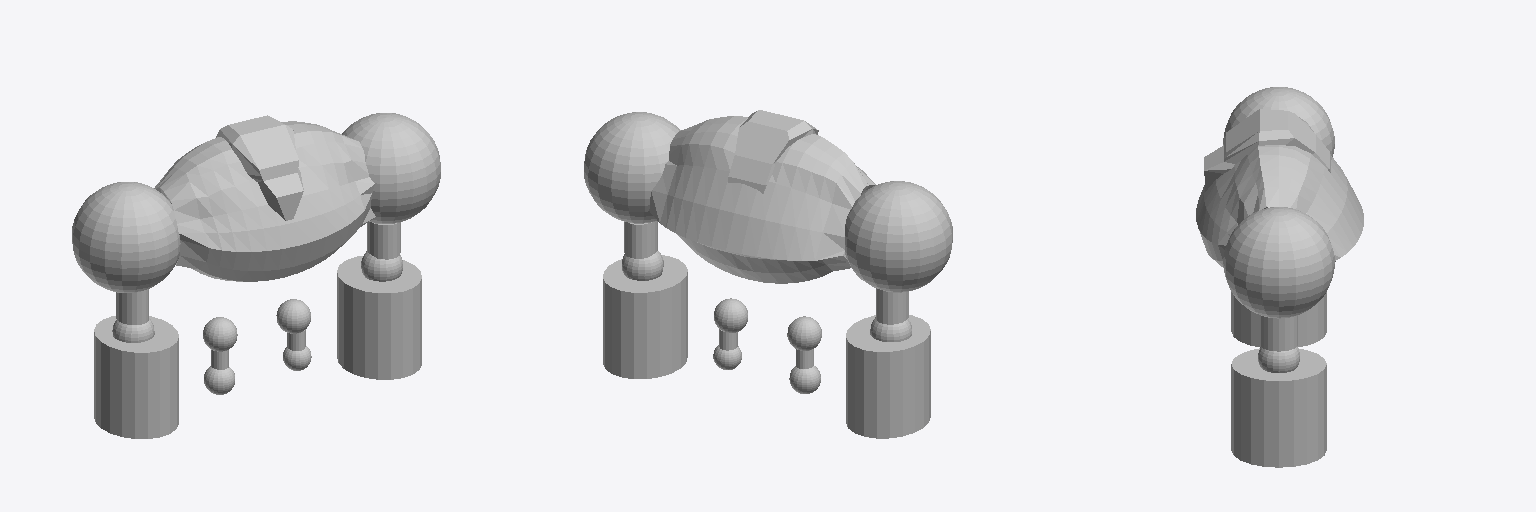
File: Robot1.obj
3 views of the same model, side by side, from view 1: azimuth 30°, elevation 25°; view 2: azimuth 150°, elevation 25°; view 3: azimuth 270°, elevation 25° (orthographic).
Visible parts, largest first — view 1: Torso, RightShoulder, LeftForeArm, RightForeArm, LeftShoulder, Head, LeftBicept, RightBicept, LeftHip, RightHip, LeftElbow, RightElbow (+1 smaller); view 2: Torso, RightShoulder, LeftForeArm, RightForeArm, LeftShoulder, Head, LeftBicept, RightBicept, RightHip, LeftHip, LeftElbow, RightElbow (+1 smaller); view 3: Torso, LeftForeArm, LeftShoulder, Head, RightShoulder, RightForeArm, LeftBicept, LeftElbow.
Boxes of the visible parts, box(x1,y1,x2,y2) form: Torso: box(154, 121, 375, 281); RightShoulder: box(72, 182, 180, 292); LeftForeArm: box(337, 256, 421, 379); RightForeArm: box(94, 316, 178, 438); LeftShoulder: box(342, 113, 440, 223); Head: box(216, 115, 303, 220); LeftBicept: box(367, 222, 400, 259); RightBicept: box(116, 289, 148, 324); LeftHip: box(276, 299, 310, 333); RightHip: box(203, 317, 237, 351); LeftElbow: box(361, 251, 402, 281); RightElbow: box(112, 318, 154, 342); Torso: box(649, 116, 875, 283); RightShoulder: box(845, 181, 952, 292); LeftForeArm: box(603, 255, 687, 378); RightForeArm: box(846, 315, 930, 438); LeftShoulder: box(584, 112, 680, 223); Head: box(728, 110, 818, 193); LeftBicept: box(624, 221, 657, 258); RightBicept: box(876, 288, 908, 324); RightHip: box(787, 316, 821, 350); LeftHip: box(714, 298, 747, 332); LeftElbow: box(622, 251, 663, 280); RightElbow: box(870, 317, 911, 341); Torso: box(1196, 117, 1363, 267); LeftForeArm: box(1231, 348, 1326, 467); LeftShoulder: box(1223, 207, 1334, 318); Head: box(1204, 109, 1331, 191); RightShoulder: box(1223, 87, 1334, 156); RightForeArm: box(1231, 292, 1326, 346); LeftBicept: box(1260, 315, 1297, 351); LeftElbow: box(1258, 347, 1299, 372).
Bounding box in the file's own units: 4.5 × 3.26 × 1.85.